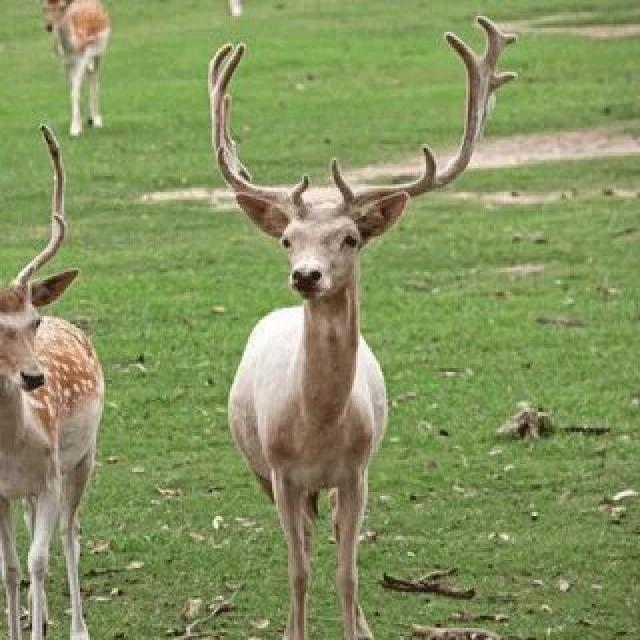deer: (156, 70, 530, 609)
